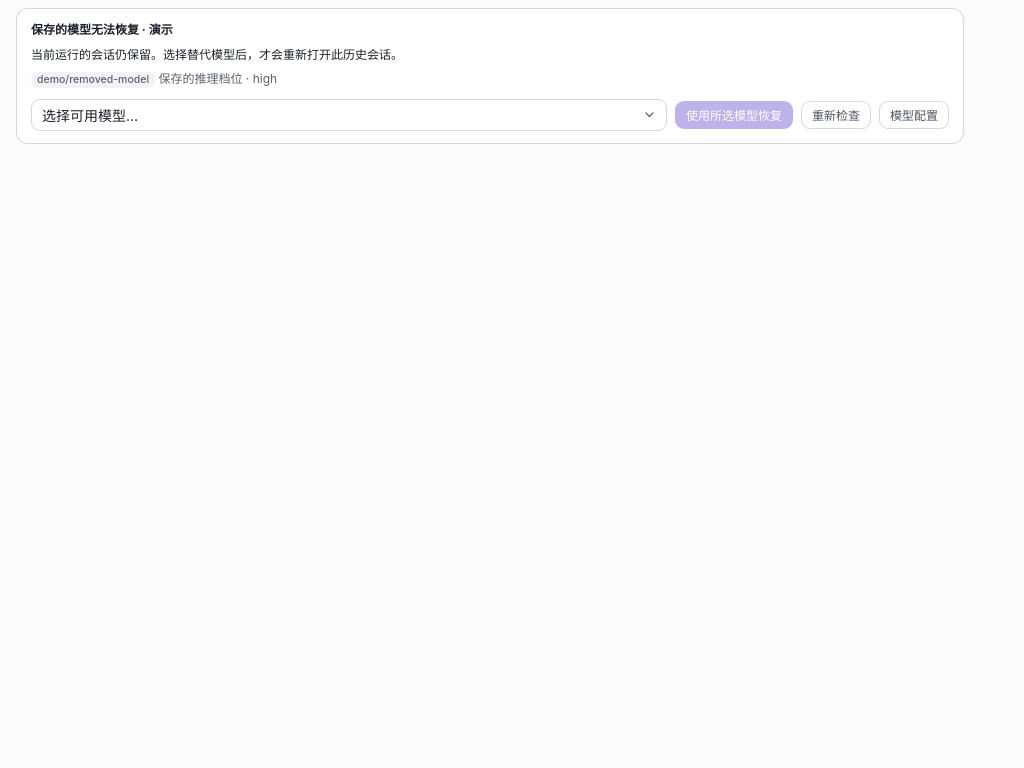
Test case: requires an explicit replacement and confirmation; preview never changes the real session
Check: the button "使用所选模型恢复" is disabled, box x1=675 y1=101 x2=793 y2=129
Click the dropdown named "替代模型" at {"x": 90, "y": 115}, box x1=31 y1=99 x2=667 y2=131
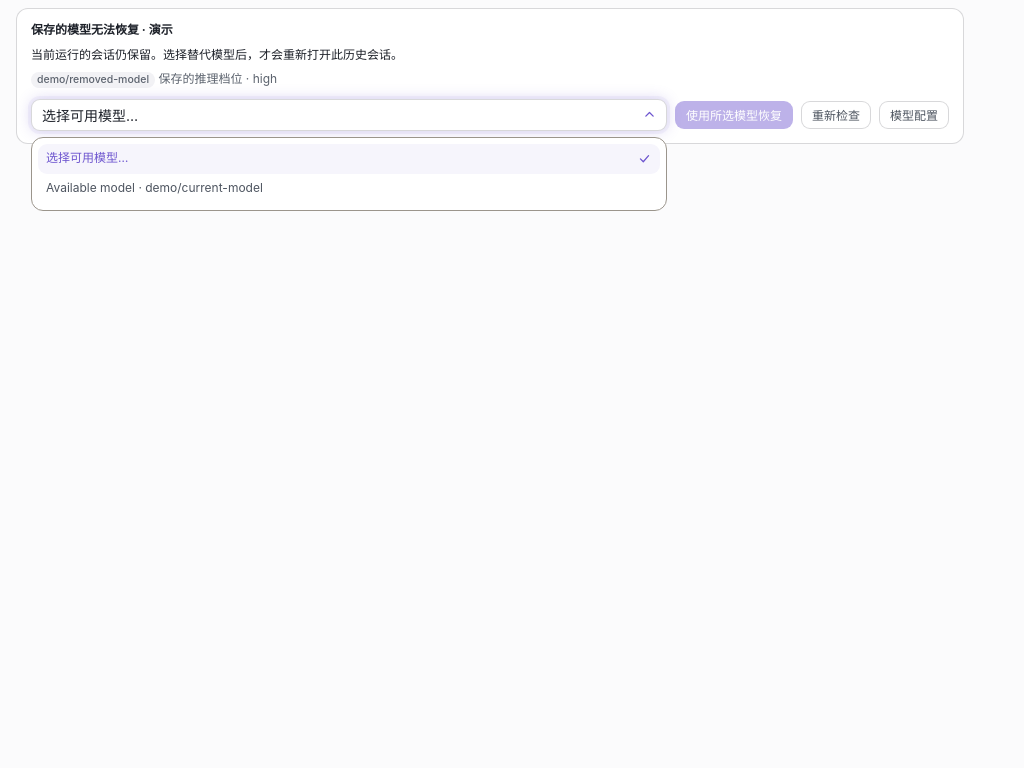
Click the option "Available model · demo/current-model" at {"x": 154, "y": 188}, box x1=38 y1=174 x2=660 y2=204
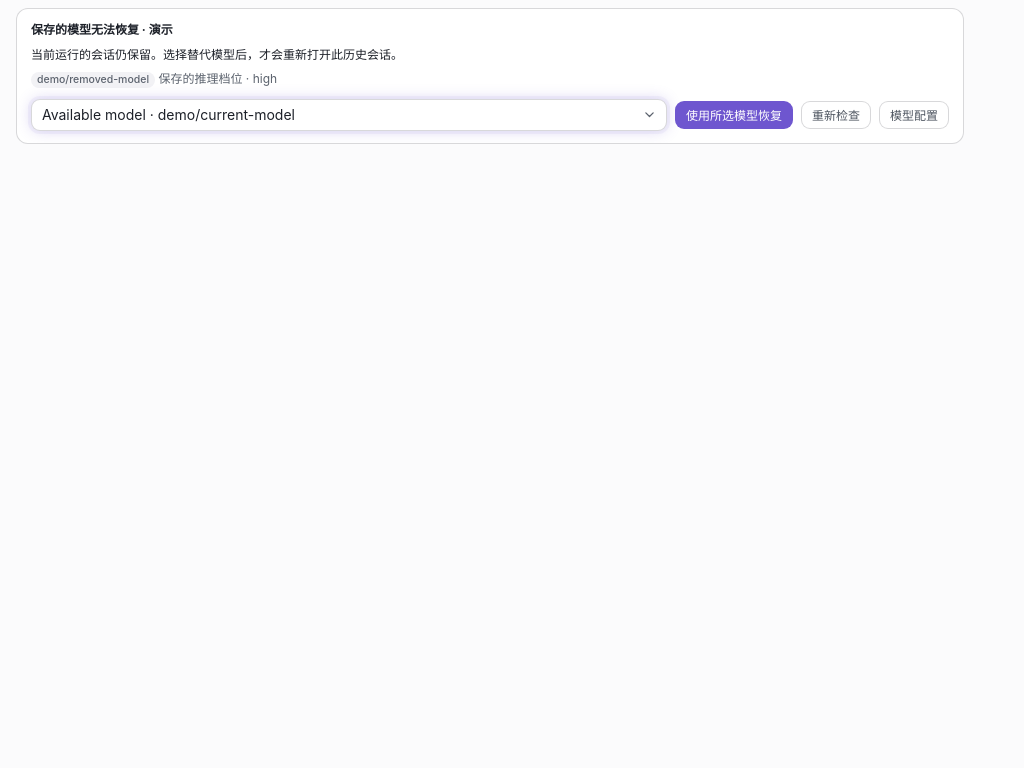
Click the button "使用所选模型恢复" at {"x": 734, "y": 115}, box x1=675 y1=101 x2=793 y2=129
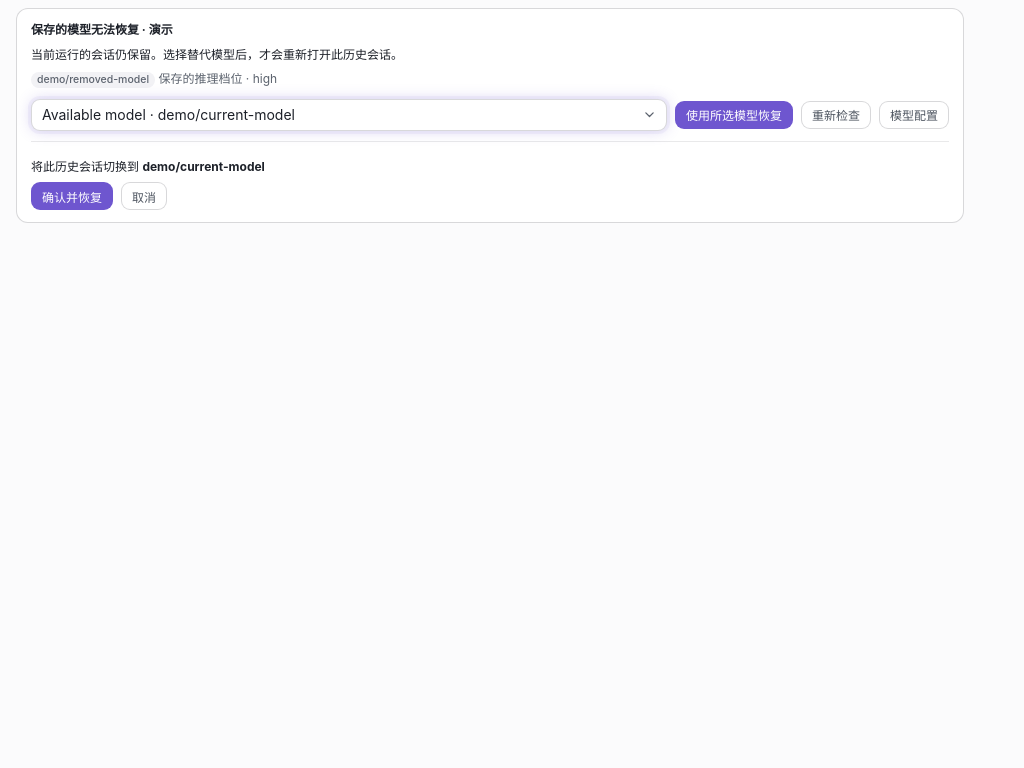
Click the button "确认并恢复" at {"x": 72, "y": 196}, box x1=31 y1=182 x2=113 y2=210
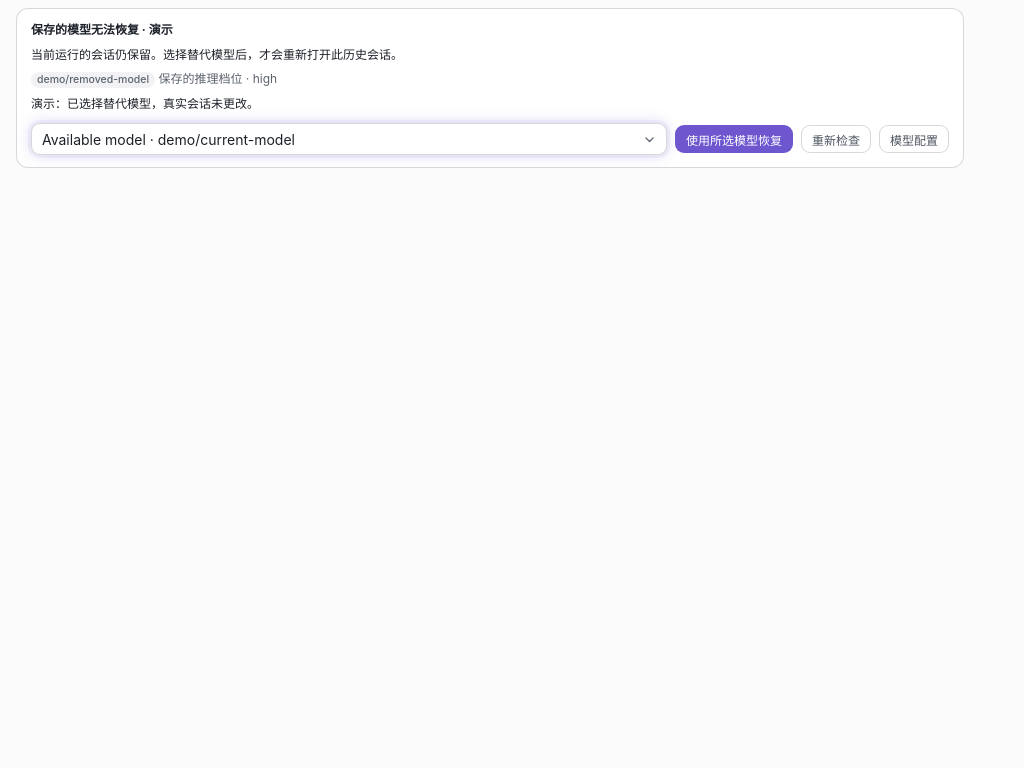
Check: the message "演示：已选择替代模型，真实会话未更改。" is shown, box x1=31 y1=96 x2=259 y2=111
